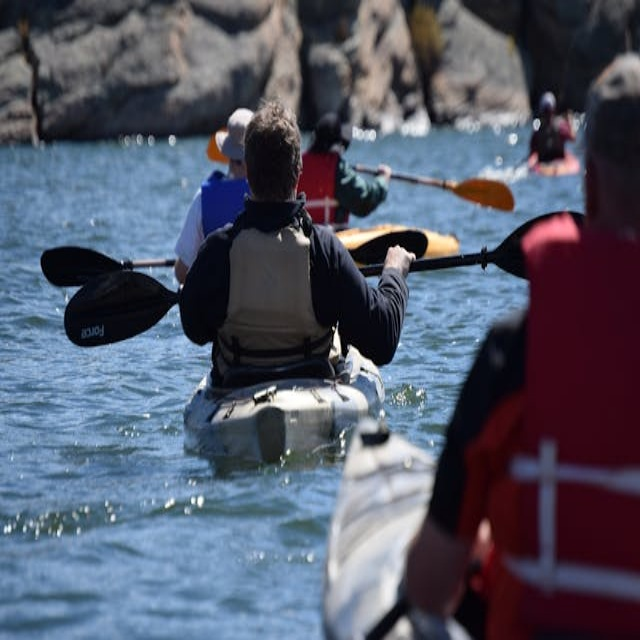clean_water: (13, 13, 627, 627)
foam_scum: (329, 435, 432, 640), (220, 346, 406, 431)
